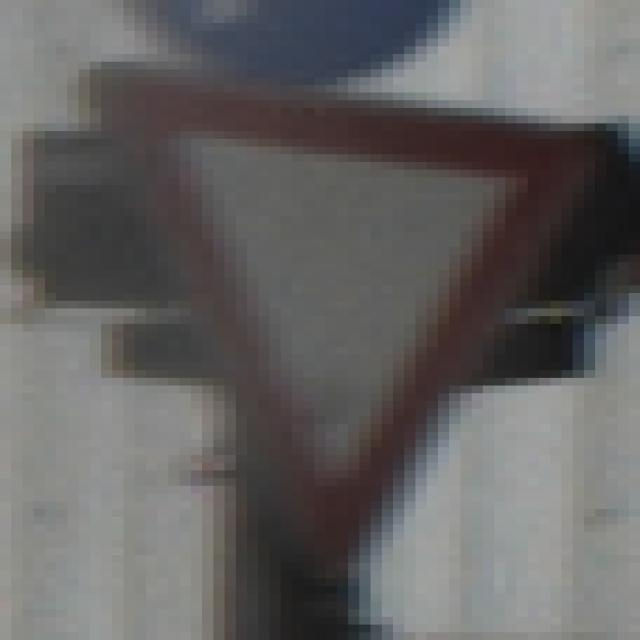Give Way: (68, 55, 585, 587)
